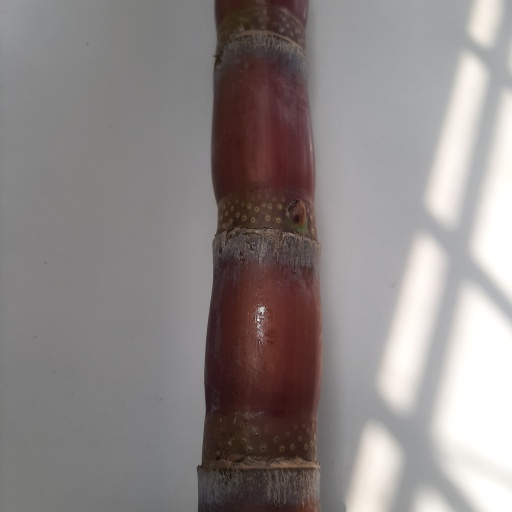Bud: (287, 197, 309, 226)
